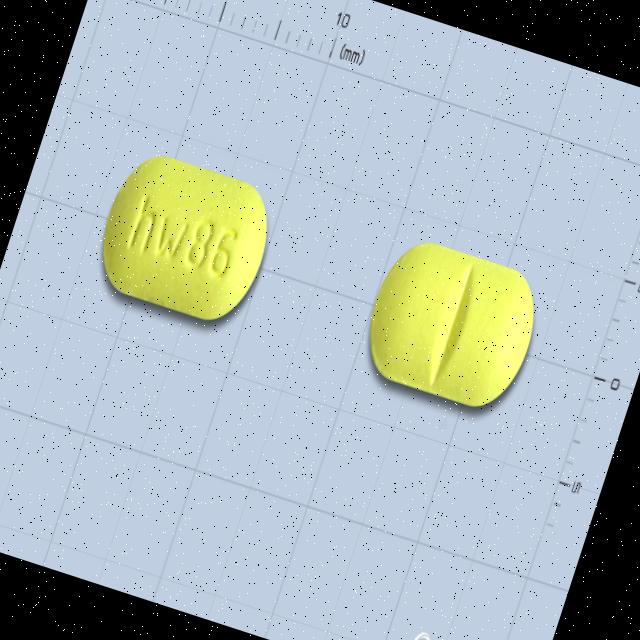Clarithin: (82, 140, 288, 340)
